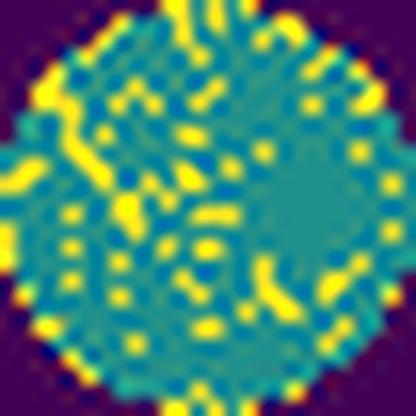Scratch: (27, 60, 149, 245)
